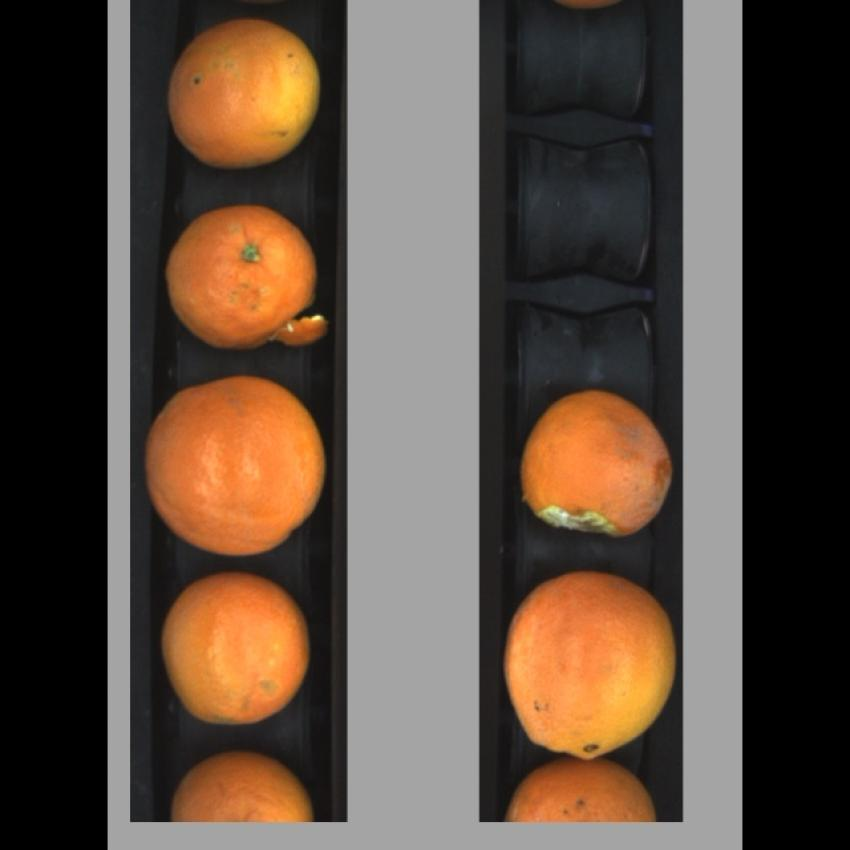Buen estado: (141, 375, 326, 556), (156, 558, 316, 730), (162, 14, 322, 172)
Mal estado: (500, 563, 680, 763), (511, 368, 675, 538), (159, 201, 326, 352), (162, 742, 314, 820), (504, 764, 657, 821)
